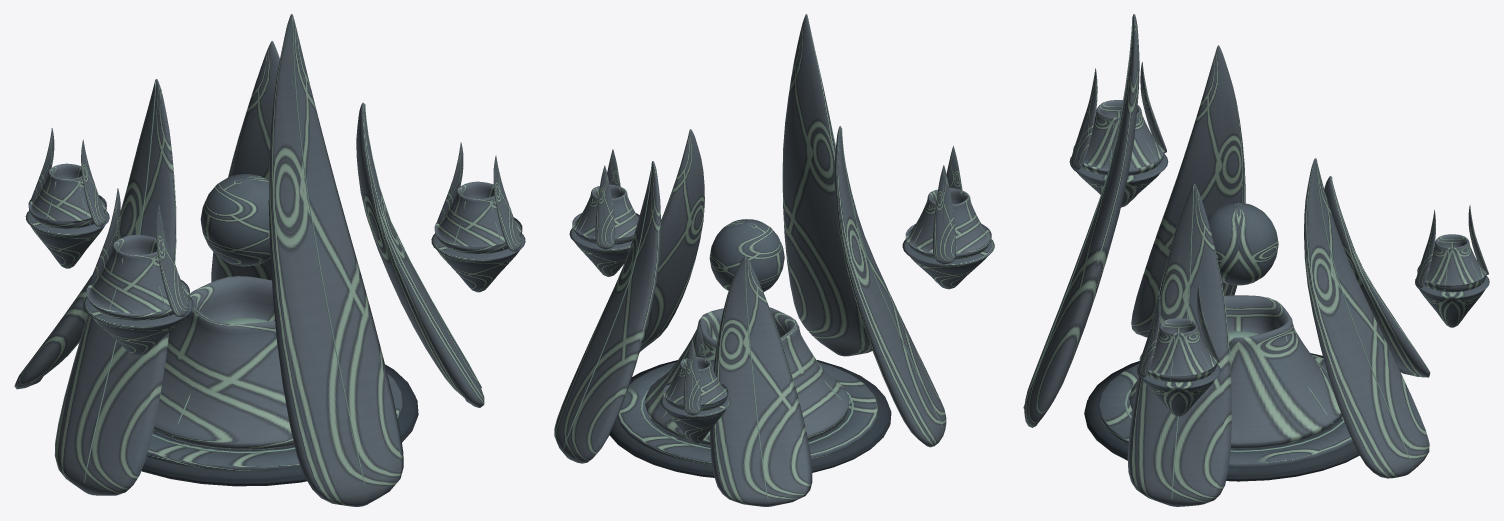
File: GGA1401_source.obj
3 views of the same model, side by side, from view 1: azimuth 30°, elevation 25°; view 2: azimuth 150°, elevation 25°; view 3: azimuth 270°, elevation 25° (orthographic). The views are drawn at different scales.
Parts seen in each view (by area): view 1: GGA1401, Island_B, Island_A, Island_C, Core; view 2: GGA1401, Island_B, Island_A, Island_C, Core; view 3: GGA1401, Island_A, Island_B, Island_C, Core.
Boxes of the visible parts, box(x1,y1,x2,y2) form: GGA1401: box(14, 14, 484, 506); Island_B: box(83, 188, 193, 356); Island_A: box(431, 142, 525, 292); Island_C: box(25, 128, 109, 268); Core: box(200, 174, 270, 266); GGA1401: box(554, 14, 946, 506); Island_B: box(902, 146, 994, 289); Island_A: box(569, 149, 639, 276); Island_C: box(660, 324, 730, 444); Core: box(709, 219, 784, 292); GGA1401: box(1023, 14, 1430, 506); Island_A: box(1136, 286, 1220, 416); Island_B: box(1069, 62, 1168, 207); Island_C: box(1415, 205, 1489, 327); Core: box(1207, 203, 1278, 285).
Size of the model in its own units: 55.69 by 52 by 54.59.
Materials: 1 (1 with a texture image).
